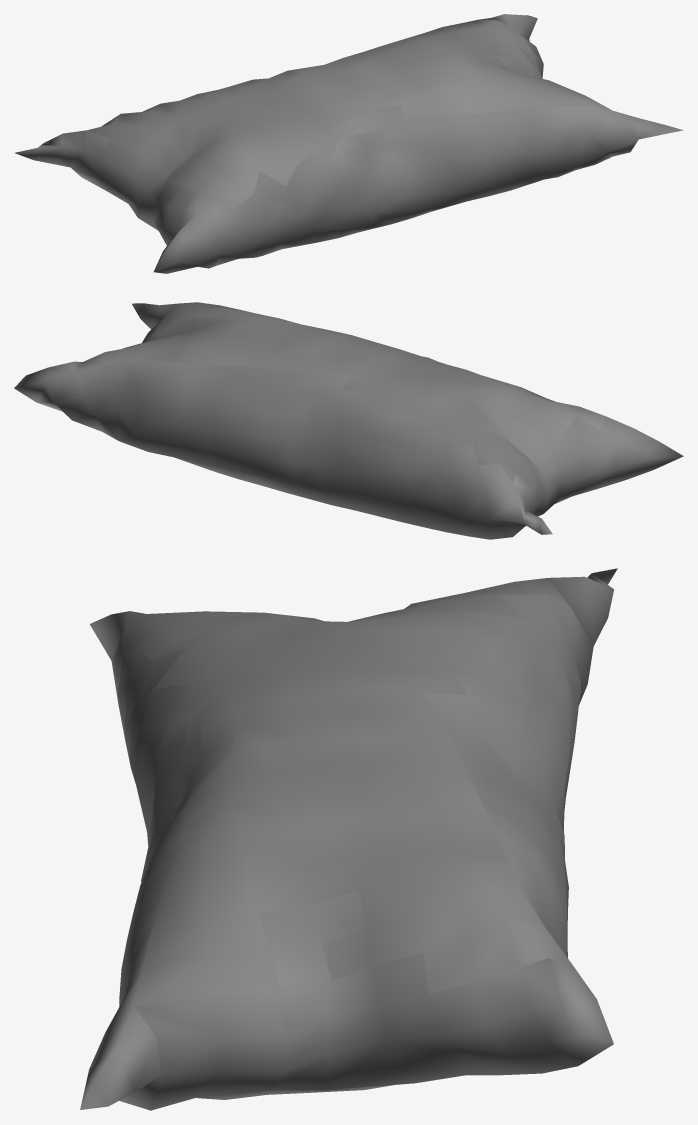
File: cojín.fbx
The picture shows the model from 3 angles, top to bottom: view 1: azimuth 30°, elevation 25°; view 2: azimuth 150°, elevation 25°; view 3: azimuth 270°, elevation 25°; orthographic projection. The views are drawn at different scales.
Parts seen in each view (by area): view 1: Cojin; view 2: Cojin; view 3: Cojin.
Boxes of the visible parts, <box> form: Cojin: <box>15,14,682,273</box>; Cojin: <box>14,302,683,539</box>; Cojin: <box>80,568,617,1110</box>.
Size of the model in its own units: 95.38 by 20.67 by 41.49.
